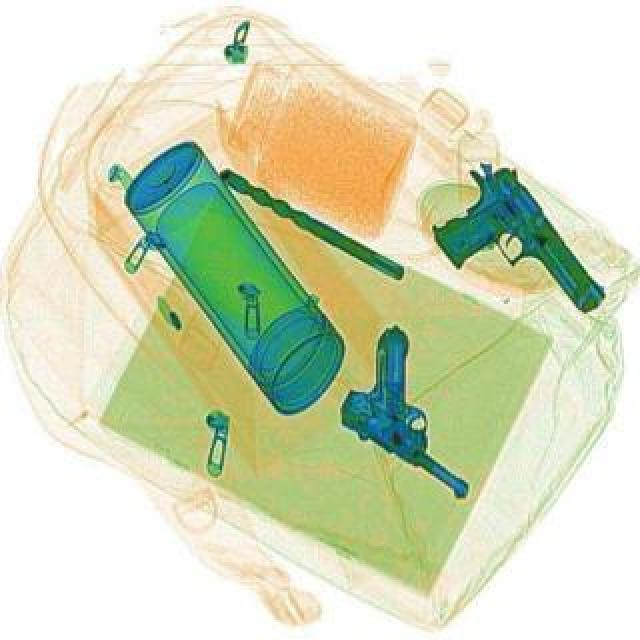gun: (412, 156, 612, 356), (320, 326, 536, 510)
